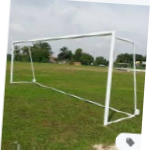goals: (10, 30, 138, 126)
